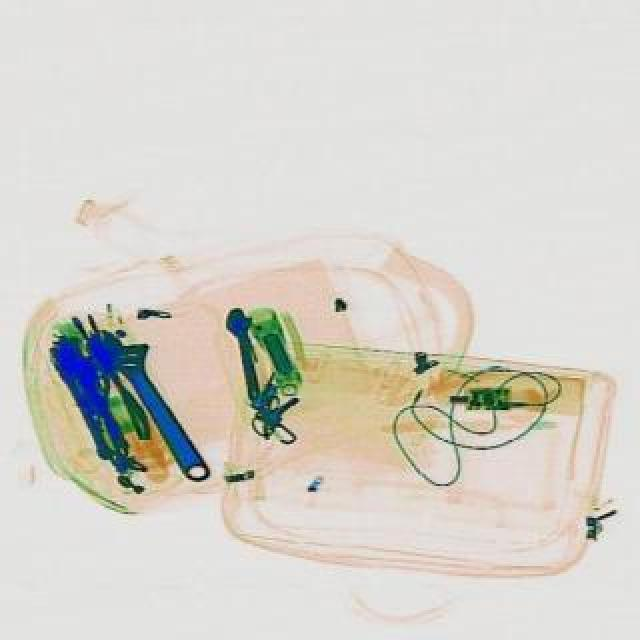scissors: (80, 312, 230, 488), (222, 306, 268, 402)
wrench: (68, 324, 150, 450)
